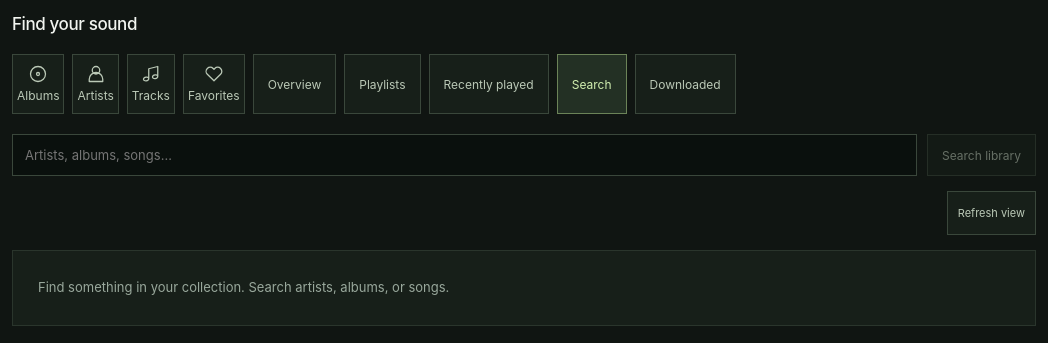
Test case: searches artists, albums, and songs and handles empty matches
Expected: the text "Find something" is shown, [38,279,449,295]
In the search field: (464, 155) [12,134,917,176], type "no match"
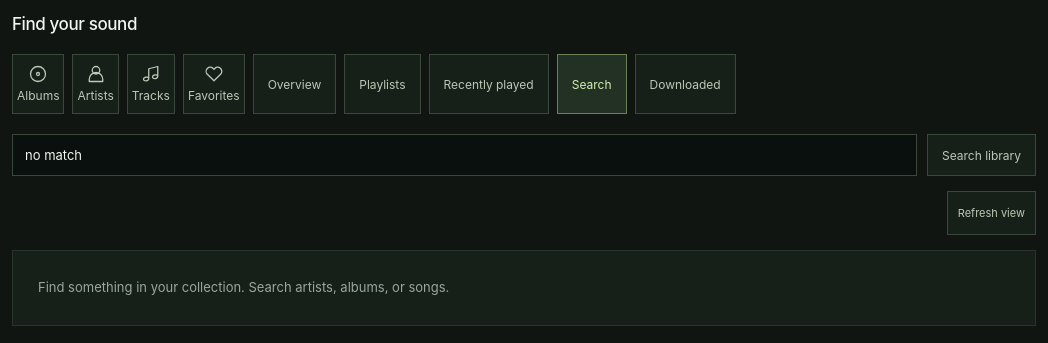
Click the button "Search library": (981, 155) [927,134,1036,176]
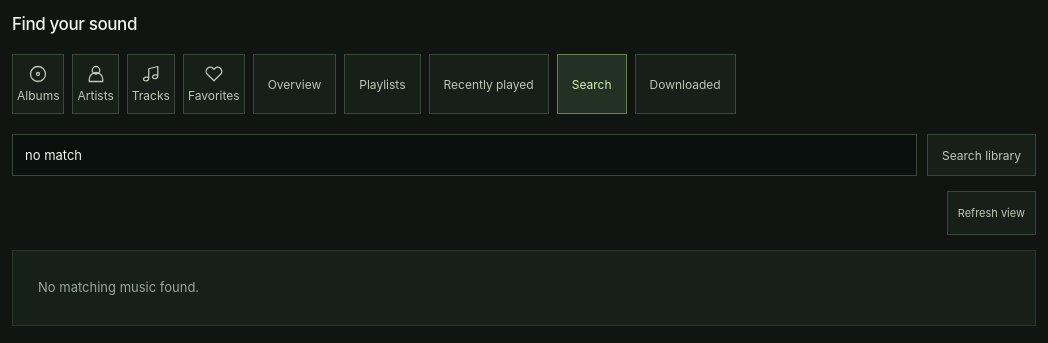
Expected: the text "No matching music found." is shown, [12,250,1036,326]
